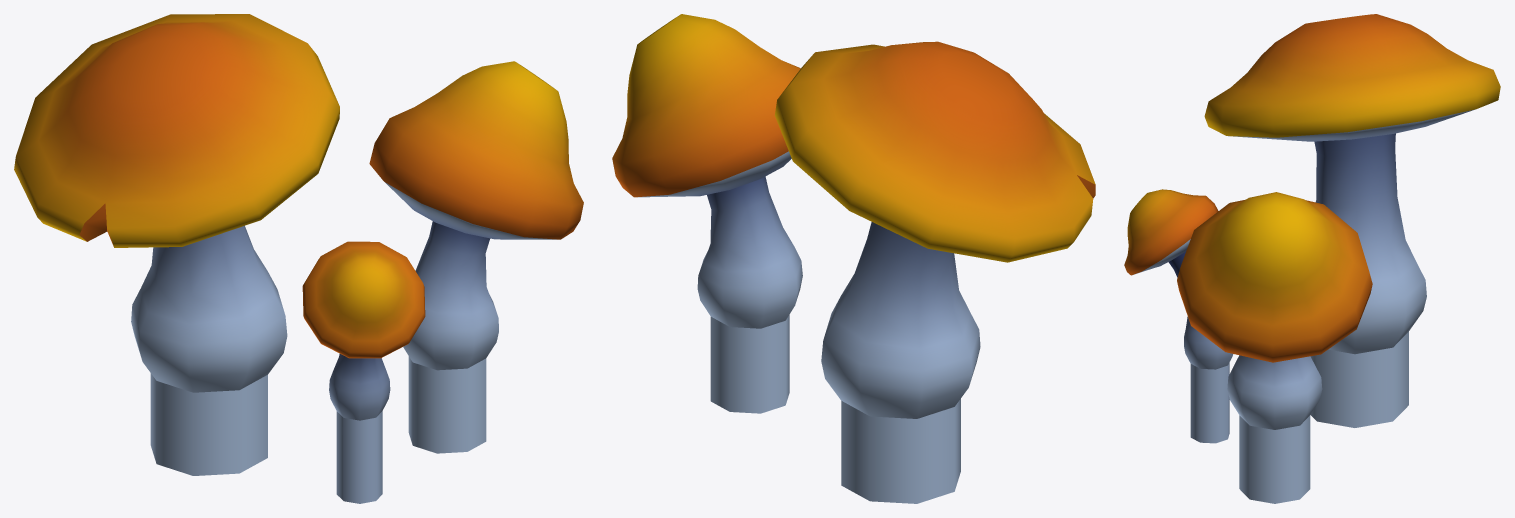
The model's file is mushrooms_1.fbx.
The picture shows the model from 3 angles, left to right: view 1: azimuth 30°, elevation 25°; view 2: azimuth 150°, elevation 25°; view 3: azimuth 270°, elevation 25°; orthographic projection. The views are drawn at different scales.
Visible parts, largest first — view 1: mushrooms_1; view 2: mushrooms_1; view 3: mushrooms_1.
Boxes of the visible parts, x1,y1,x2,y2 form: mushrooms_1: (14,14,583,503); mushrooms_1: (612,14,1095,503); mushrooms_1: (1124,14,1500,503).
Size of the model in its own units: 65.21 by 54.16 by 49.52.
